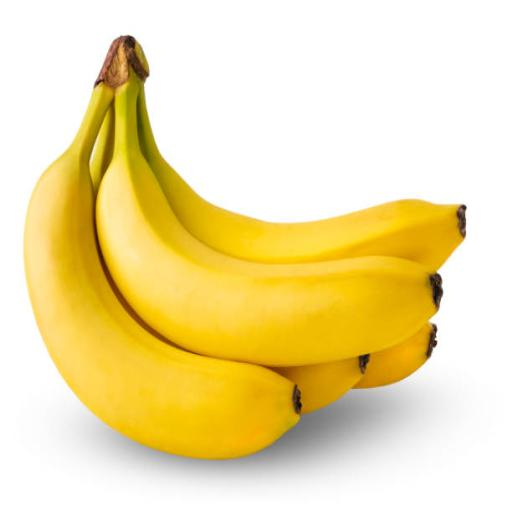banana: (25, 83, 300, 458), (97, 76, 441, 366), (139, 91, 465, 272), (272, 323, 436, 413), (272, 356, 368, 413), (354, 324, 436, 387), (90, 105, 114, 196)
